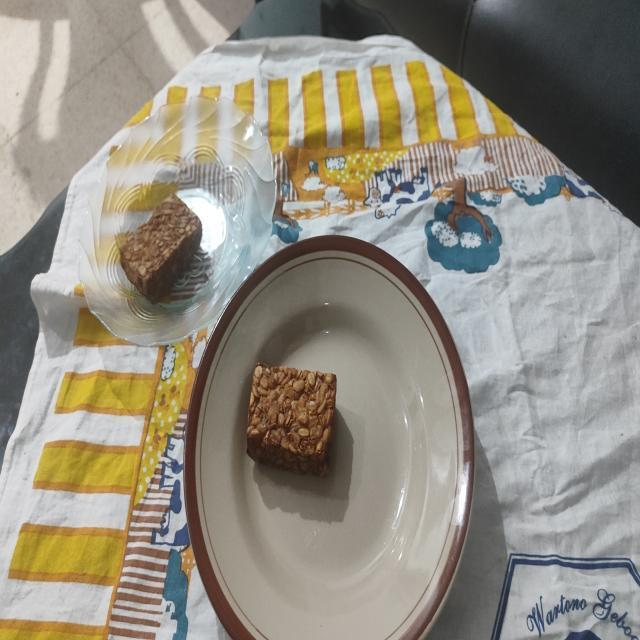tempe_goreng: (247, 363, 336, 475), (119, 194, 202, 303)
